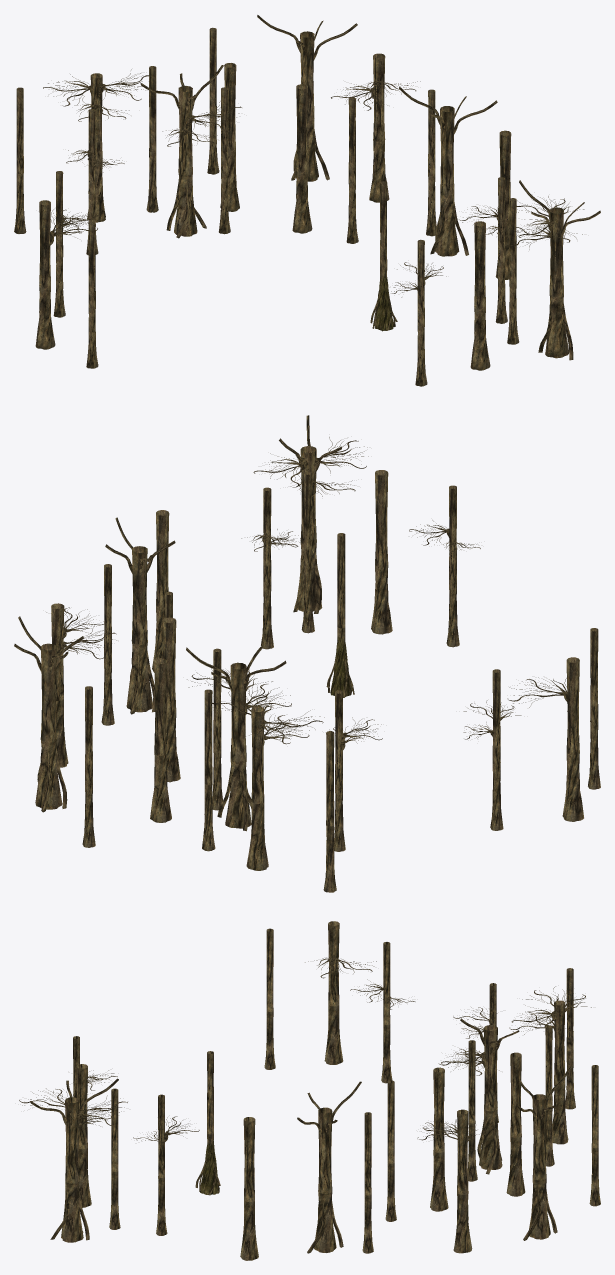
3 renders of one model, top to bottom at view 1: azimuth 30°, elevation 25°; view 2: azimuth 150°, elevation 25°; view 3: azimuth 270°, elevation 25°, orthographic. The views are drawn at different scales.
Visible parts, largest first — view 1: mesh1, mesh2, mesh3; view 2: mesh1, mesh2, mesh3; view 3: mesh1, mesh2, mesh3.
Part boxes in pixels (x1,y1,x2,y2): mesh1: (16,15,600,326); mesh2: (14,113,573,386); mesh3: (374,276,393,331); mesh1: (14,415,598,826); mesh2: (35,541,600,892); mesh3: (330,636,352,697); mesh1: (19,921,598,1202); mesh2: (50,1005,600,1260); mesh3: (200,1141,219,1194).
Bounding box in the file's own units: 1309 × 451 × 1561.
